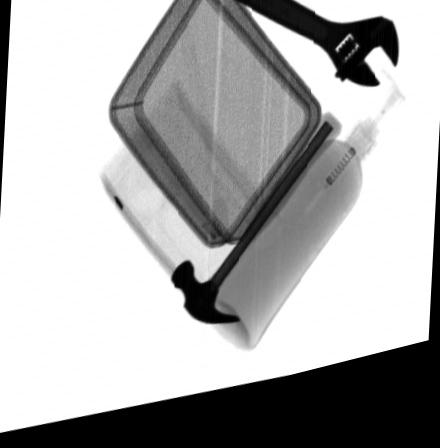Hammer: (171, 127, 341, 336)
Wrench: (210, 0, 398, 105)
